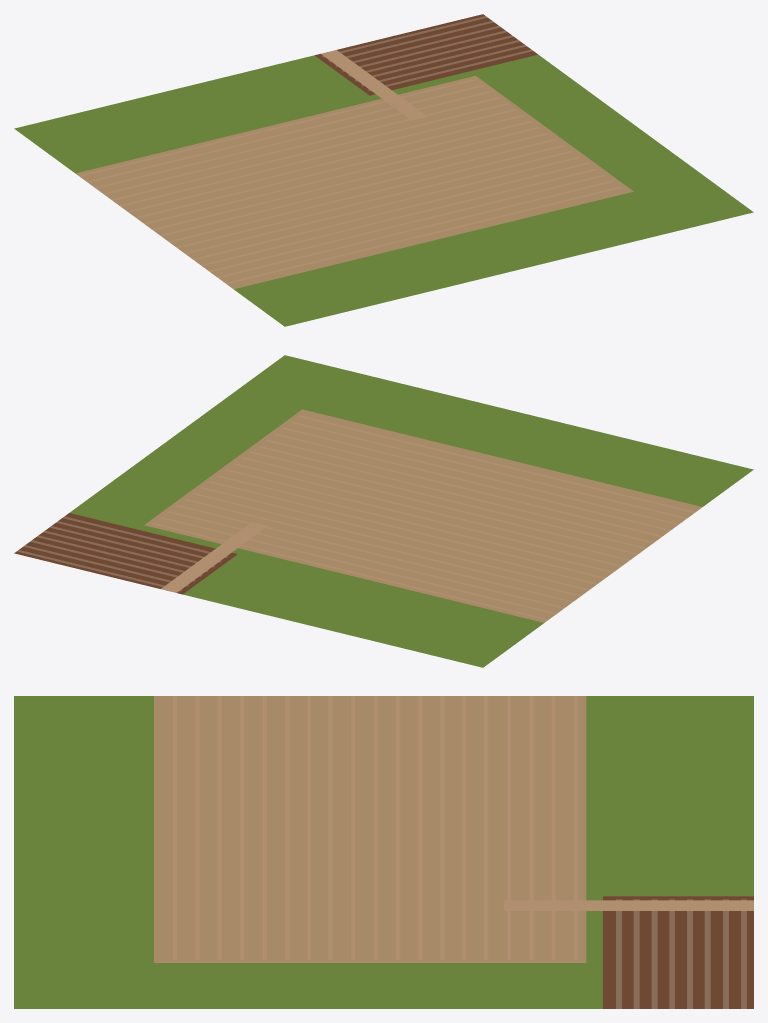
Rendered from crossing-3-7.glb.
The picture shows the model from 3 angles, top to bottom: view 1: azimuth 30°, elevation 25°; view 2: azimuth 150°, elevation 25°; view 3: azimuth 270°, elevation 25°; orthographic projection. The views are drawn at different scales.
Visible parts, largest first — view 1: crossing-3-7; view 2: crossing-3-7; view 3: crossing-3-7.
Boxes of the visible parts, x1=… form: crossing-3-7: x1=14, y1=14, x2=753, y2=326; crossing-3-7: x1=14, y1=355, x2=753, y2=667; crossing-3-7: x1=14, y1=696, x2=753, y2=1008.
Bounding box in the file's own units: 100 × 0.0072 × 100.
